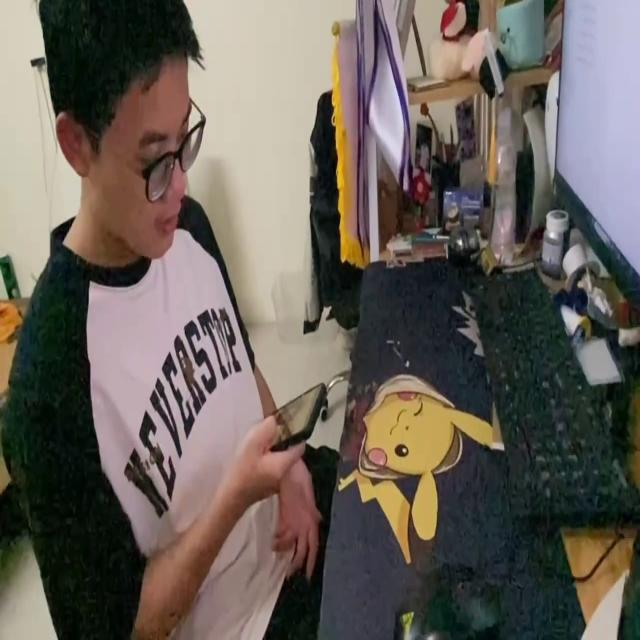laptop: (550, 6, 640, 321)
phone: (254, 379, 324, 447)
student: (2, 0, 330, 640)
